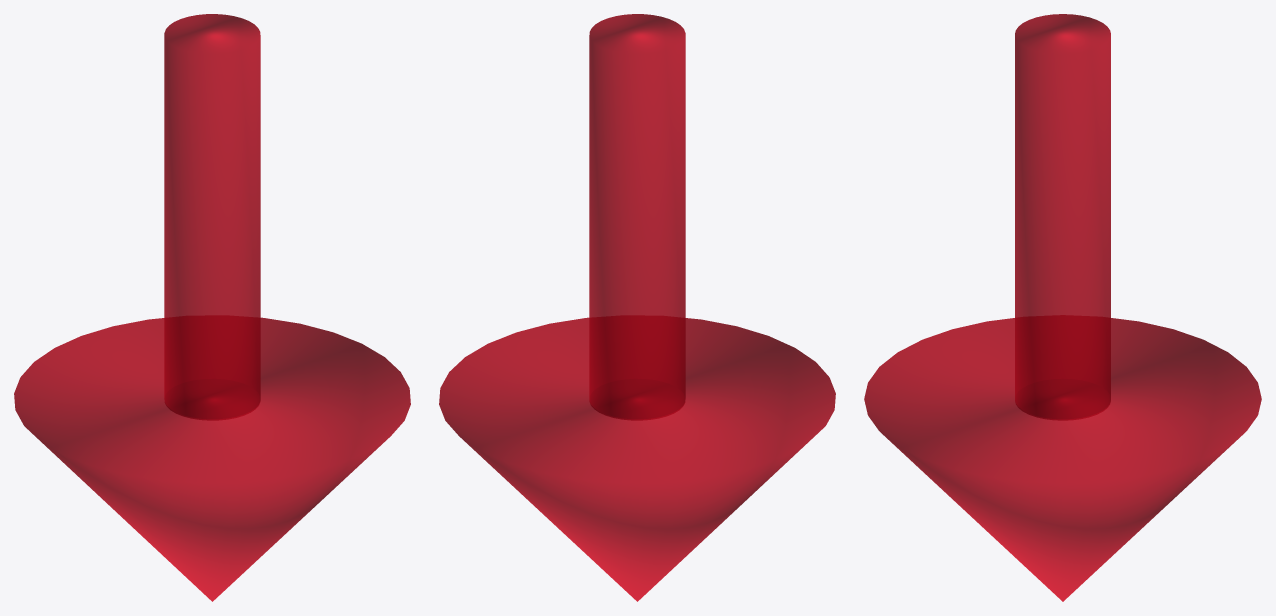
Rendered from Arrow.fbx.
3 renders of one model, left to right at view 1: azimuth 30°, elevation 25°; view 2: azimuth 150°, elevation 25°; view 3: azimuth 270°, elevation 25°, orthographic.
Parts seen in each view (by area): view 1: Arrow; view 2: Arrow; view 3: Arrow.
Boxes of the visible parts, x1,y1,x2,y2 form: Arrow: (14, 14, 410, 601); Arrow: (439, 14, 835, 601); Arrow: (864, 14, 1261, 601).
Size of the model in its own units: 200 by 315 by 200.
